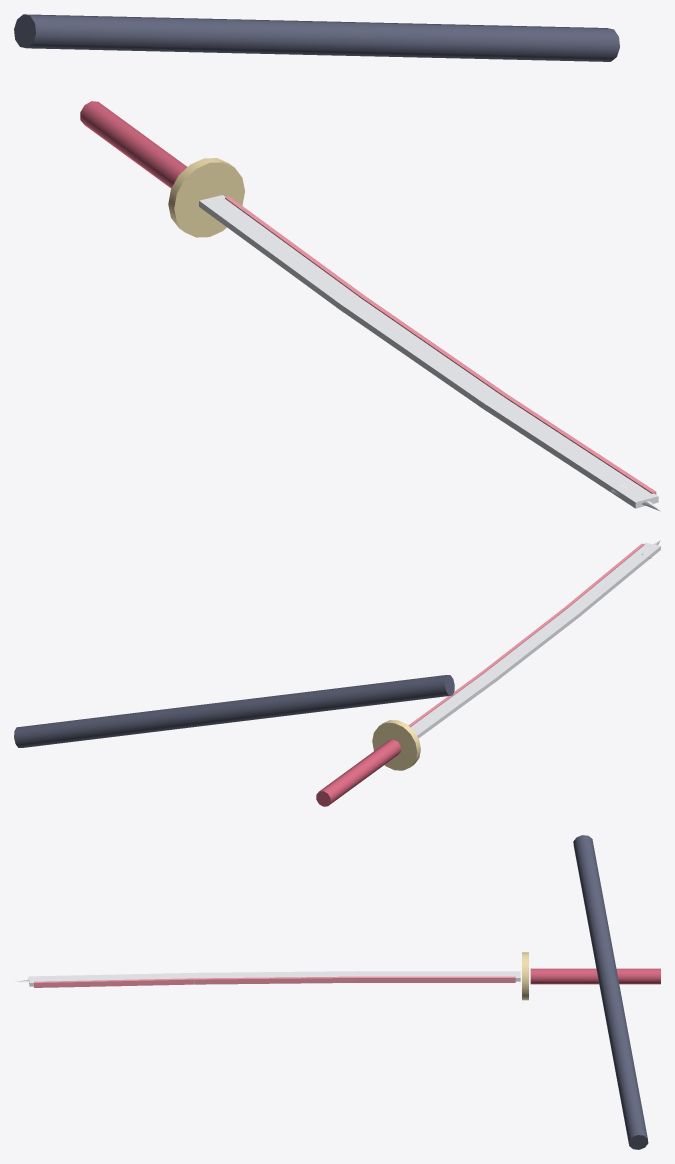
The model's file is kaede_right.glb.
3 renders of one model, top to bottom at view 1: azimuth 30°, elevation 25°; view 2: azimuth 150°, elevation 25°; view 3: azimuth 270°, elevation 25°, orthographic. The views are drawn at different scales.
Parts seen in each view (by area): view 1: kaede_right; view 2: kaede_right; view 3: kaede_right.
Part boxes in pixels (x1,y1,x2,y2): kaede_right: (14, 14, 660, 511); kaede_right: (14, 540, 660, 806); kaede_right: (15, 835, 660, 1149).
Size of the model in its own units: 0.8662 by 0.2999 by 1.29.
